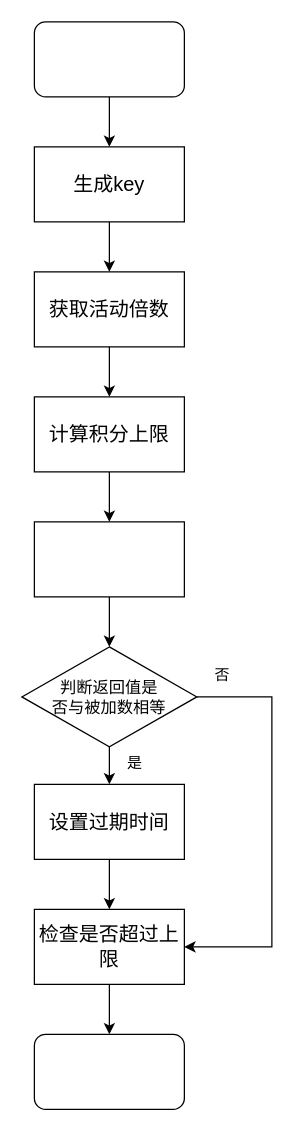
Image size: 304x1131. Some labels were removed from this diagram. The box of each missing label's shape, as (x1, y1, x2, y2) in pixels:
redis Incrby: (33, 521, 184, 597)
开始: (33, 21, 184, 97)
结束: (33, 1033, 184, 1109)
